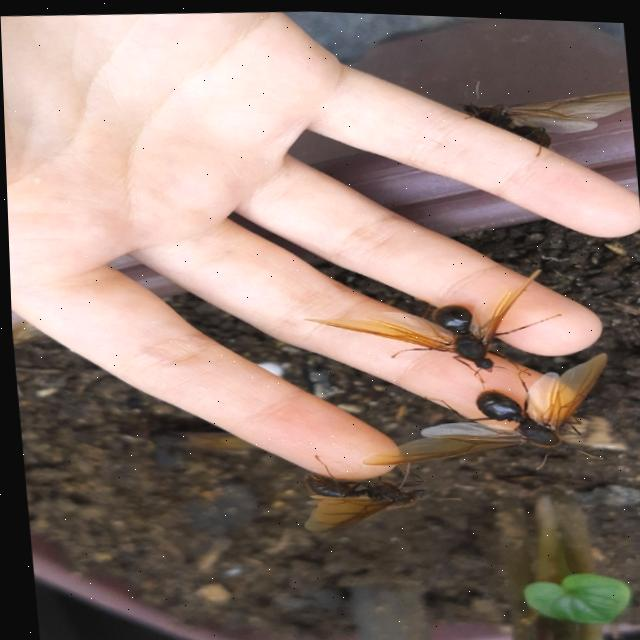Alive-Male-Alate: (296, 255, 567, 398), (349, 339, 615, 478), (453, 69, 635, 161), (292, 444, 463, 535)
